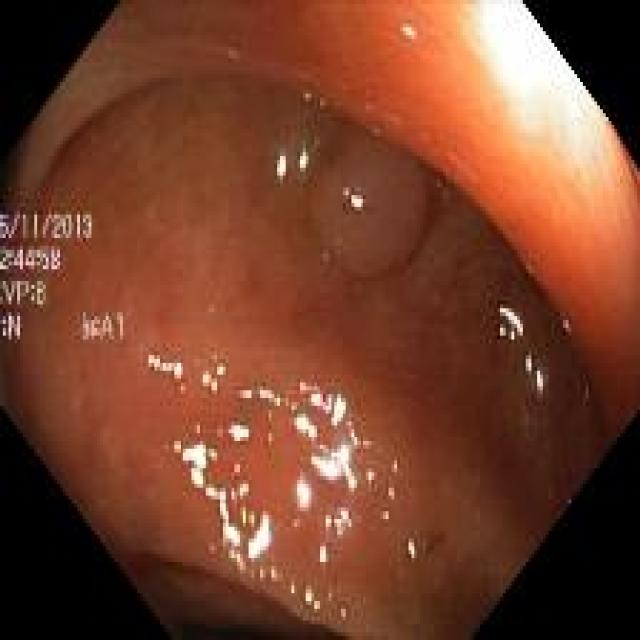Polyps: (311, 121, 438, 278)
